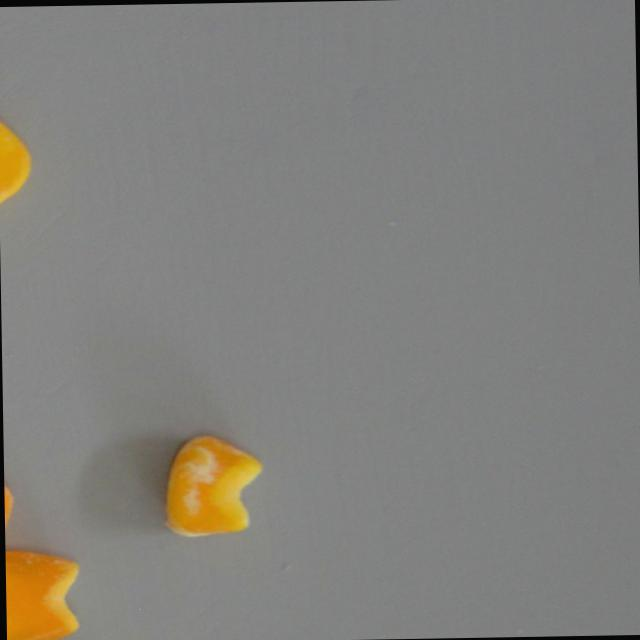dañado: (4, 546, 81, 640), (3, 466, 13, 570)
pelicula: (158, 429, 266, 541)
punto_negro: (0, 108, 33, 221)
